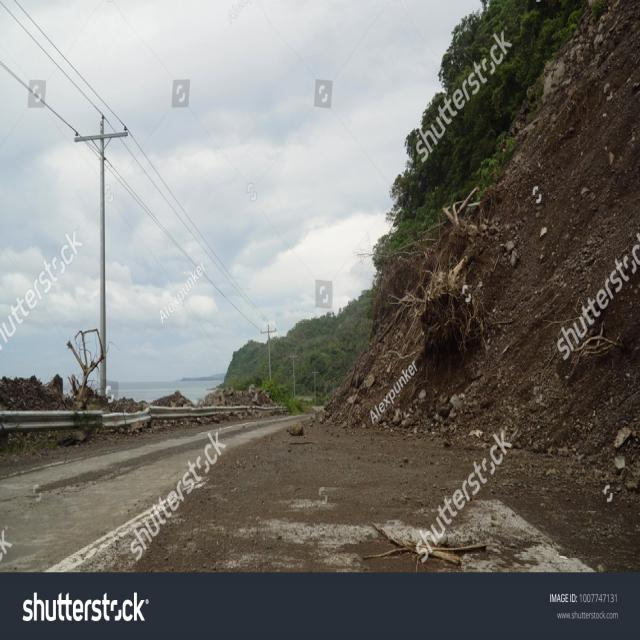landSliding: (3, 363, 614, 614)
